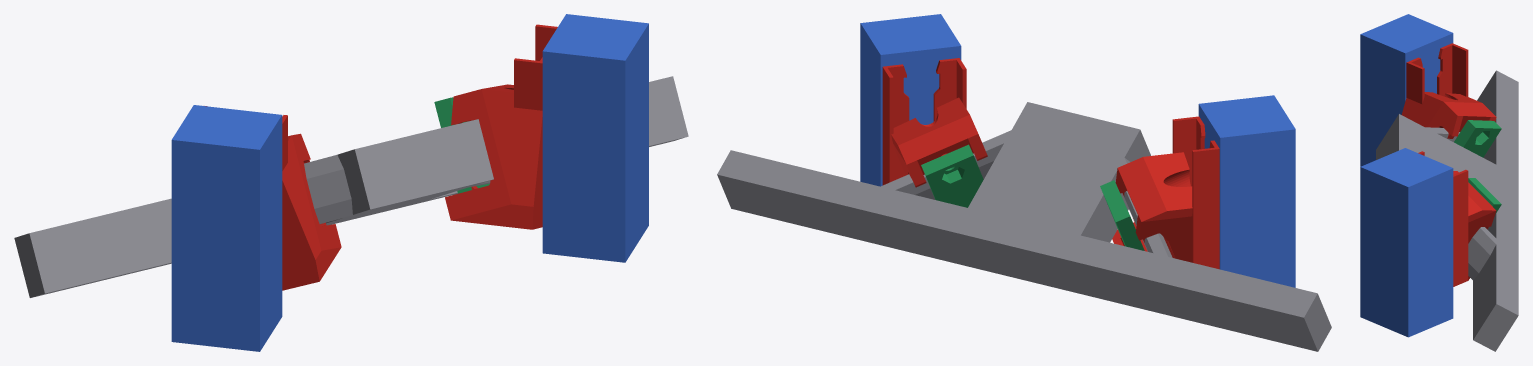
File: assembly_m9.obj
The picture shows the model from 3 angles, left to right: view 1: azimuth 30°, elevation 25°; view 2: azimuth 150°, elevation 25°; view 3: azimuth 270°, elevation 25°; orthographic projection. The views are drawn at different scales.
Visible parts, largest first — view 1: left_light_placeholder, right_light_placeholder, hanger_schematic, right_saddle, left_saddle, right_keeper; view 2: hanger_schematic, left_light_placeholder, left_saddle, right_light_placeholder, right_saddle, right_keeper, left_keeper; view 3: right_light_placeholder, hanger_schematic, left_light_placeholder, left_saddle, right_saddle, left_keeper, right_keeper.
Boxes of the visible parts, x1,y1,x2,y2 form: left_light_placeholder: (171,105,282,351); right_light_placeholder: (542,14,648,262); hanger_schematic: (14,76,688,297); right_saddle: (445,24,557,229); left_saddle: (205,106,341,290); right_keeper: (434,97,489,193); hanger_schematic: (717,102,1331,351); left_light_placeholder: (1198,95,1295,287); left_saddle: (1112,116,1219,269); right_light_placeholder: (860,14,961,186); right_saddle: (882,58,987,187); right_keeper: (921,144,983,207); left_keeper: (1100,180,1144,250); right_light_placeholder: (1360,148,1453,337); hanger_schematic: (1376,70,1518,351); left_light_placeholder: (1360,14,1453,166); left_saddle: (1401,43,1496,138); right_saddle: (1418,151,1496,286); left_keeper: (1454,120,1501,157); right_keeper: (1468,178,1501,213).
Size of the model in its own units: 260 by 78 by 74.52.
